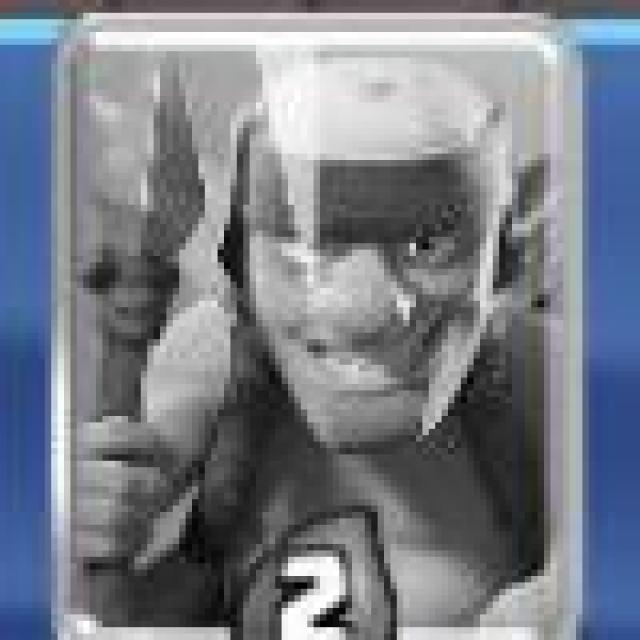Spear_Goblins: (69, 14, 586, 640)
